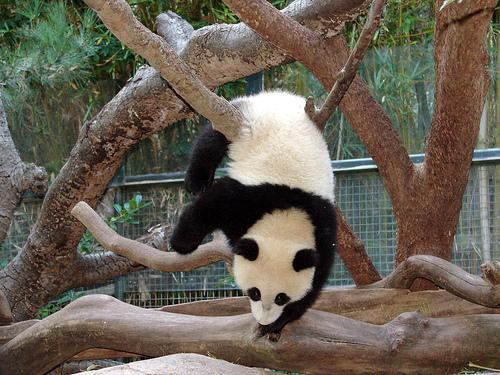panda: (171, 91, 336, 333)
